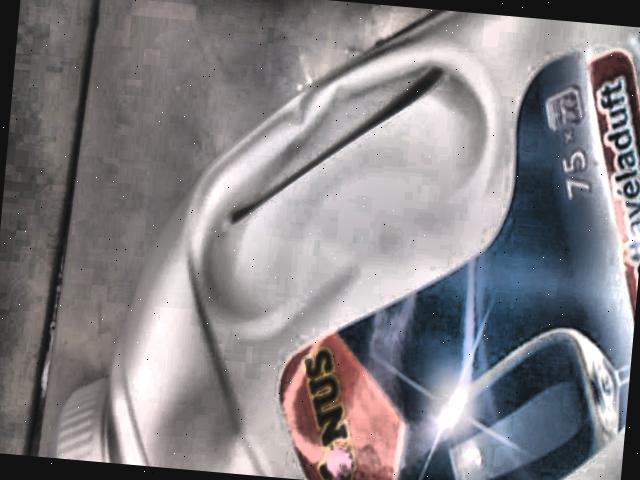Plastic: (50, 12, 640, 480)
